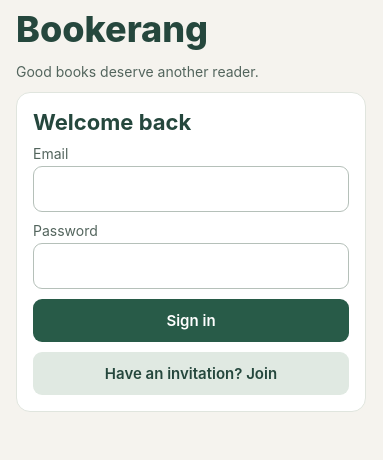
Scenario: authentication failure remains on sign-in screen
The image size is (383, 460).
Click the button "Sign in" at point(191, 320), box [33,299,349,342]
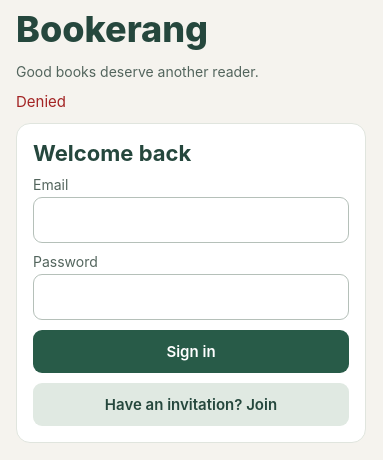
Expected: the text "Denied" is shown, [16,92,66,111]
